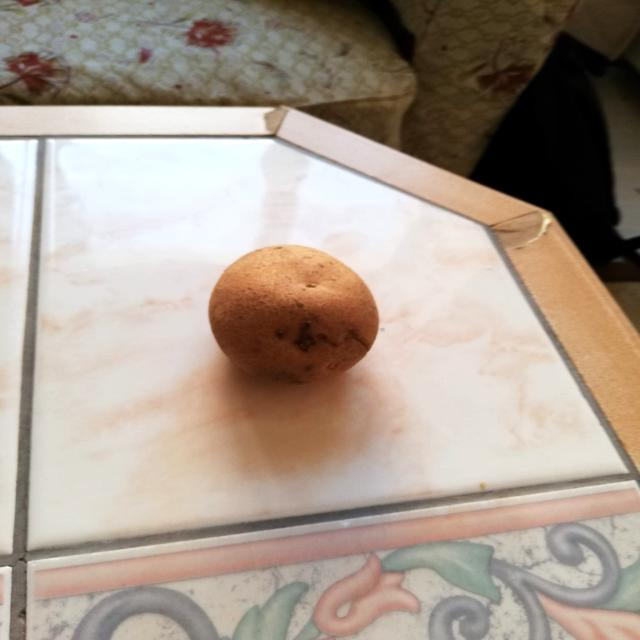potato: (205, 240, 384, 390)
